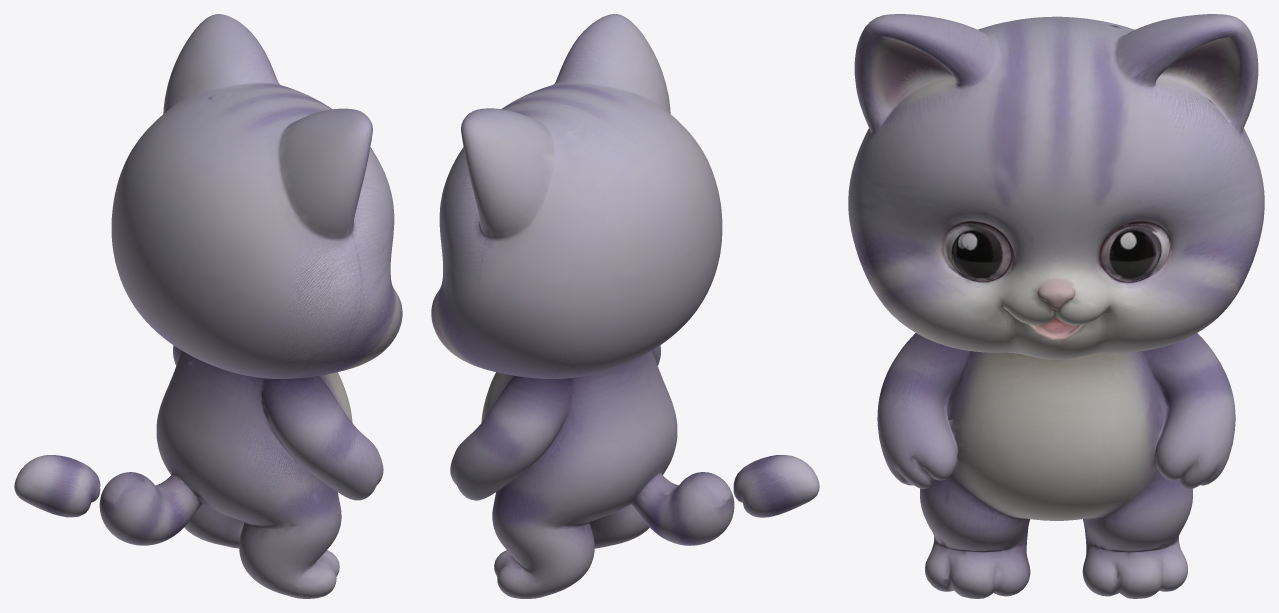
The model's file is cat_walk_2.glb.
3 renders of one model, left to right at view 1: azimuth 30°, elevation 25°; view 2: azimuth 150°, elevation 25°; view 3: azimuth 270°, elevation 25°, orthographic. The views are drawn at different scales.
Parts seen in each view (by area): view 1: node_0; view 2: node_0; view 3: node_0.
Boxes of the visible parts, x1,y1,x2,y2 form: node_0: [14, 14, 402, 598]; node_0: [431, 14, 819, 598]; node_0: [848, 14, 1264, 598].
Size of the model in its own units: 0.7803 by 0.9959 by 0.6468.
1 material, 1 textured.
